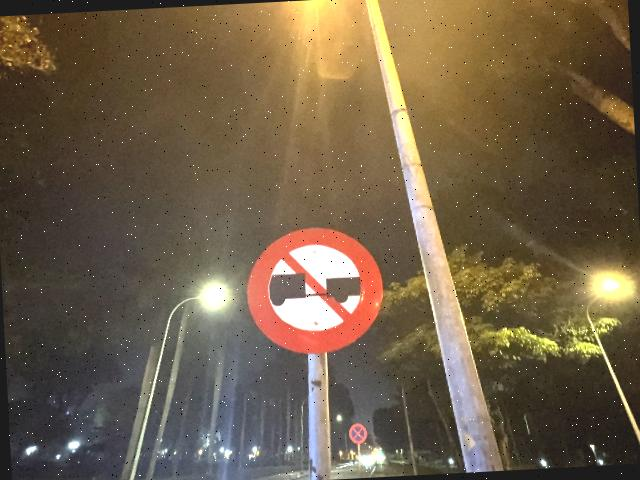cam-xe-somi-romooc: (244, 225, 386, 357)
